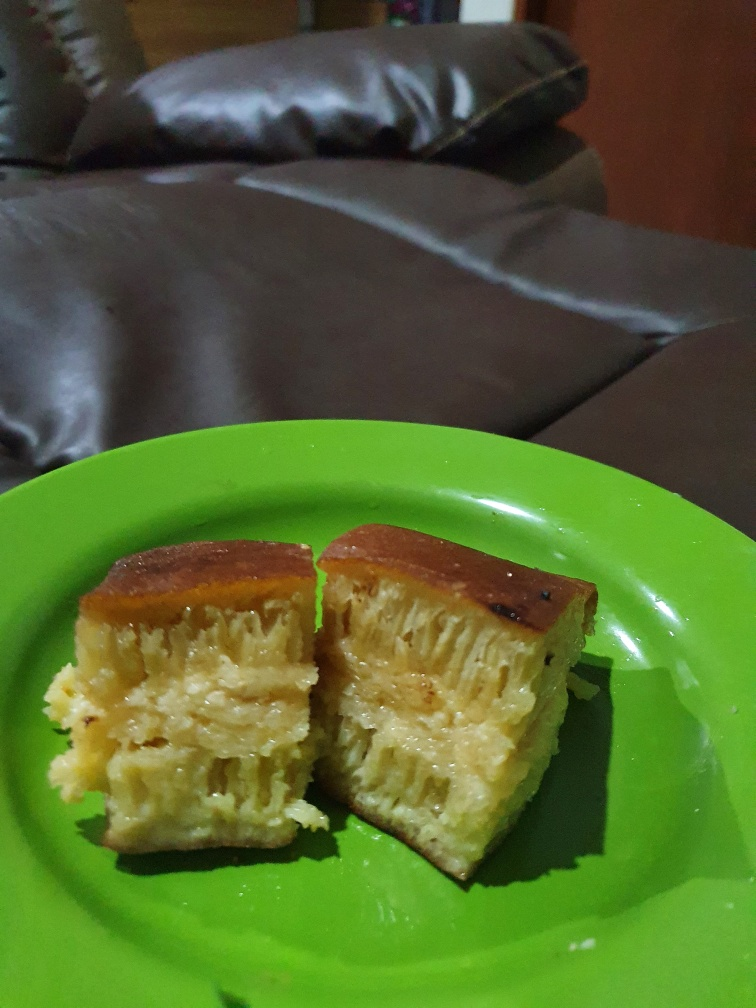martabak manis: (317, 492, 610, 888), (72, 528, 344, 846)
